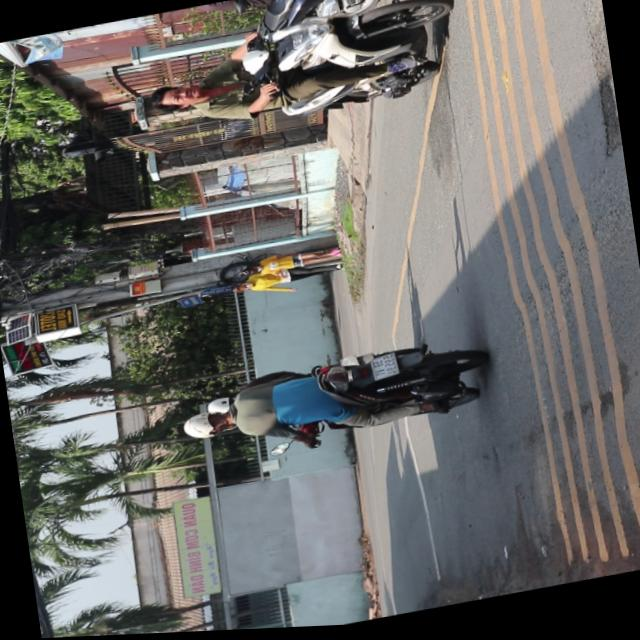helmet: (180, 406, 233, 443), (205, 396, 232, 416)
licenseplate: (139, 0, 459, 149), (173, 329, 492, 469)
motorcyclist: (149, 78, 207, 115)
nohelmet: (370, 356, 399, 382)
